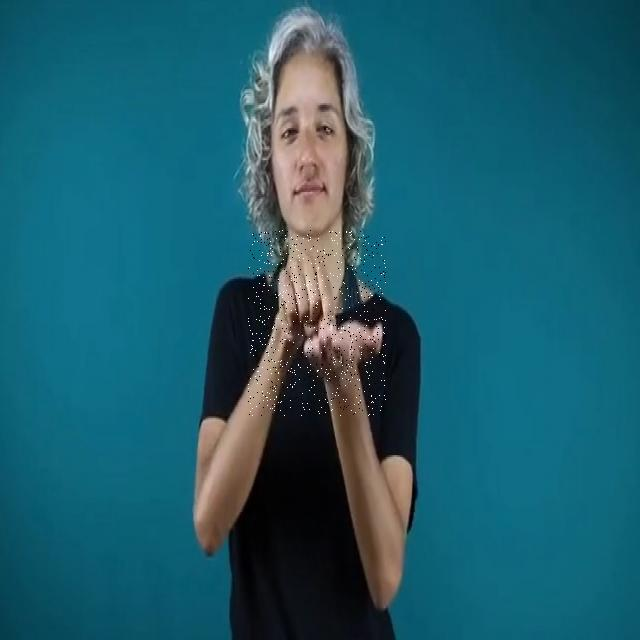chicken: (248, 230, 386, 416)
